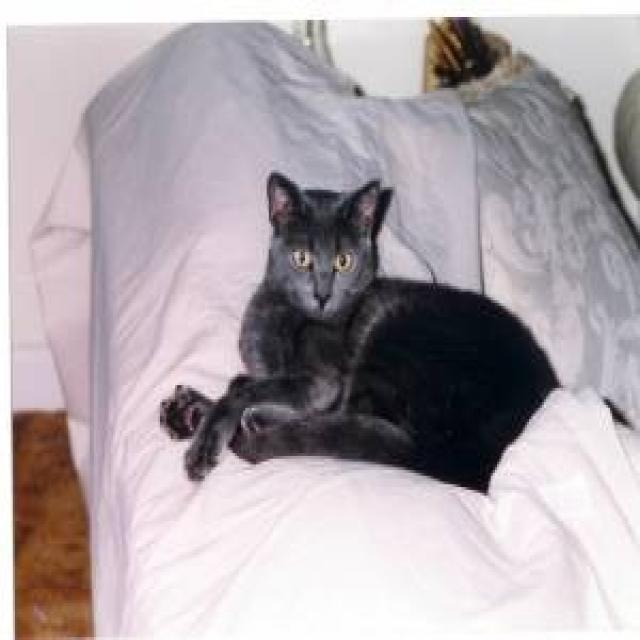Russian_Blue: (262, 161, 396, 331)
